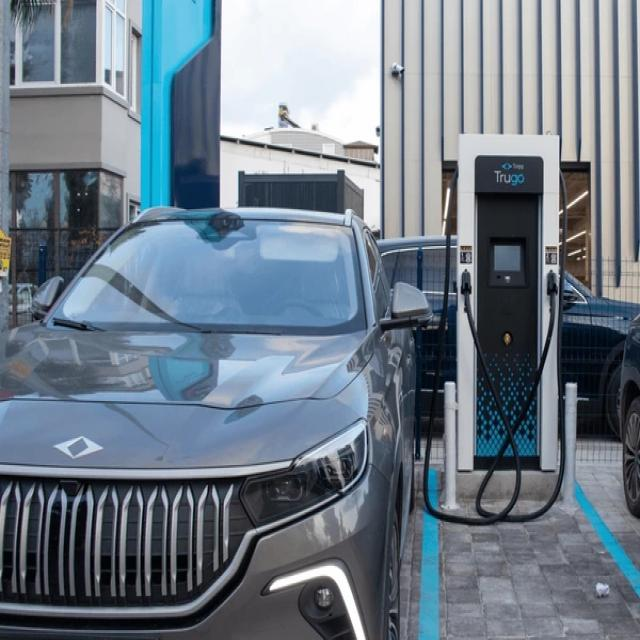togg: (50, 430, 110, 465)
